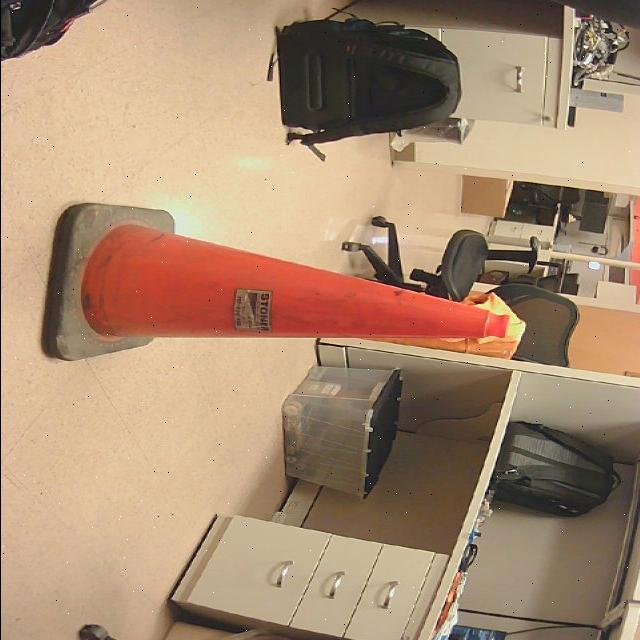traffic cone: (41, 203, 510, 362)
